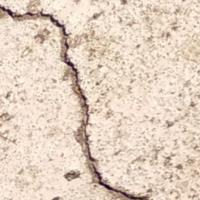crack: (0, 1, 149, 198)
